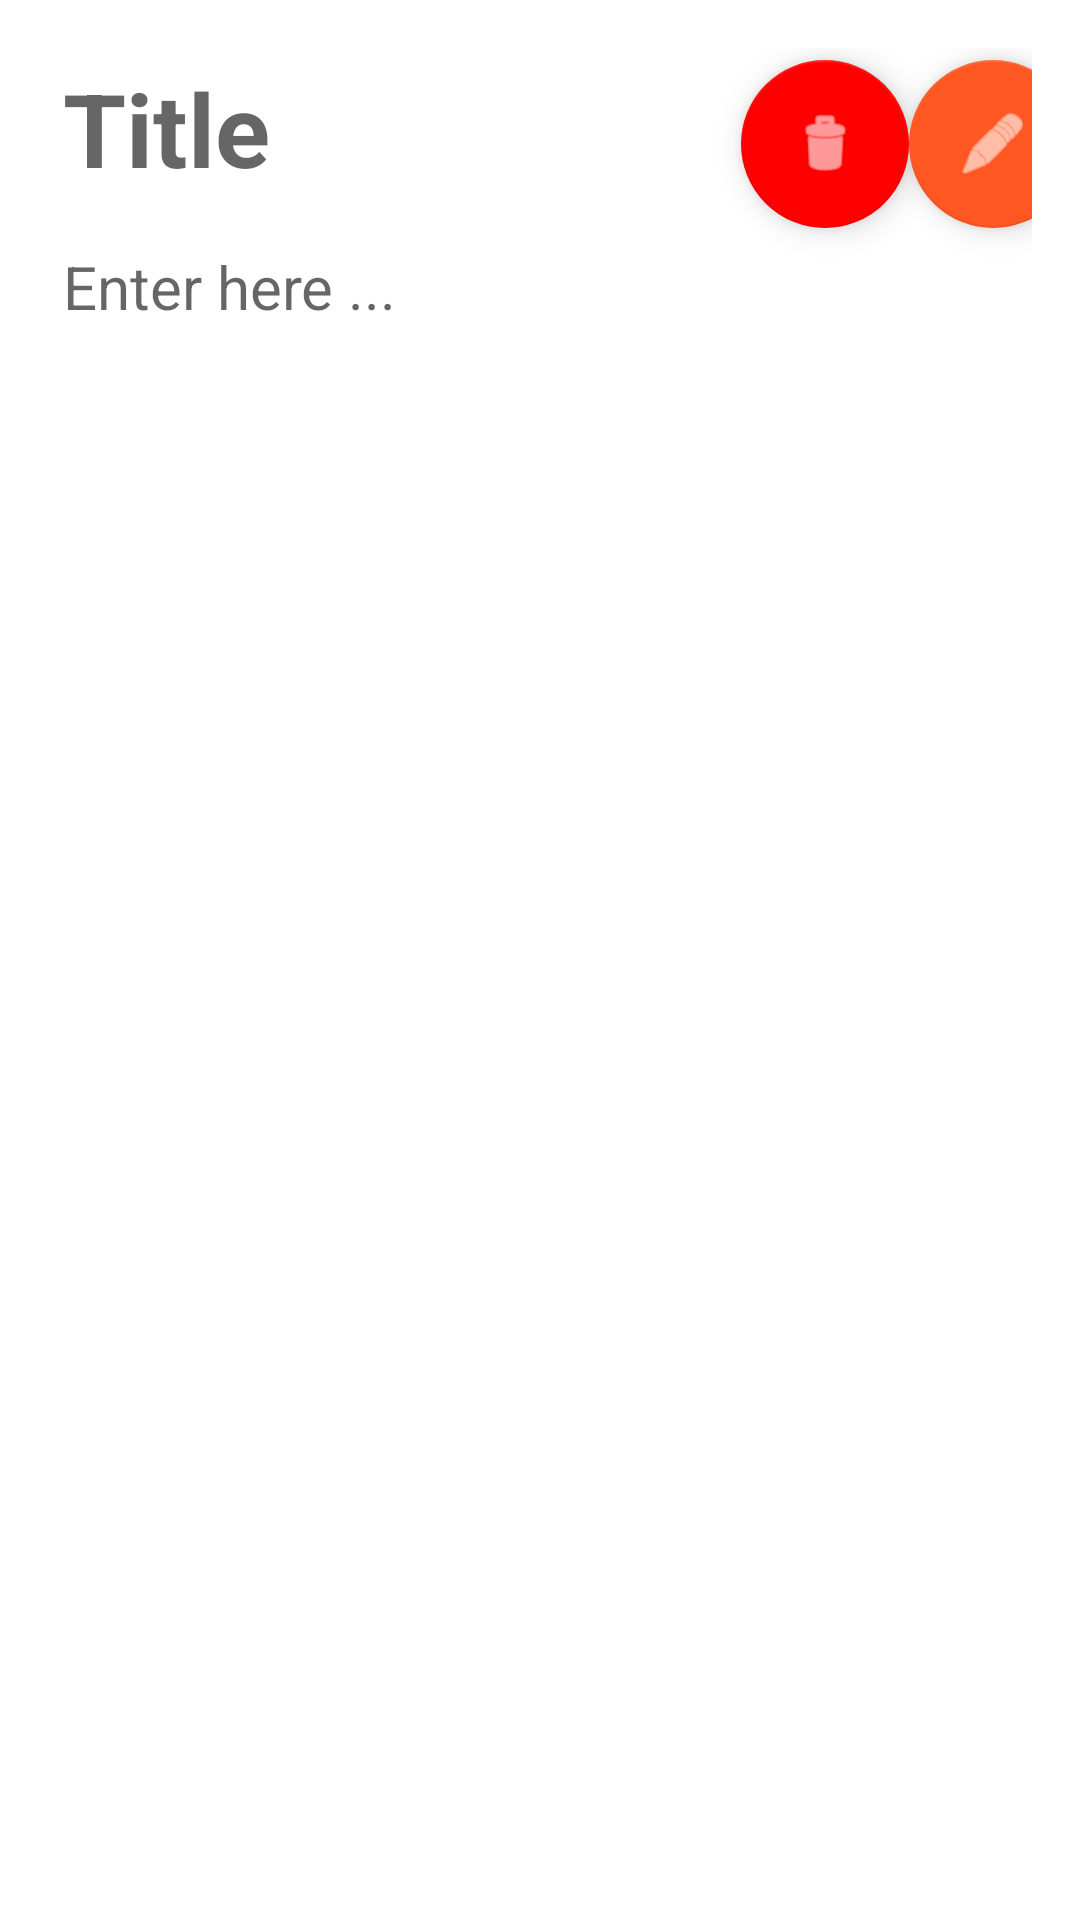

Where icons sit on this 1080×1920 app screen, as detection(x1, y1, x2, y2):
delete: detection(741, 60, 909, 228)
